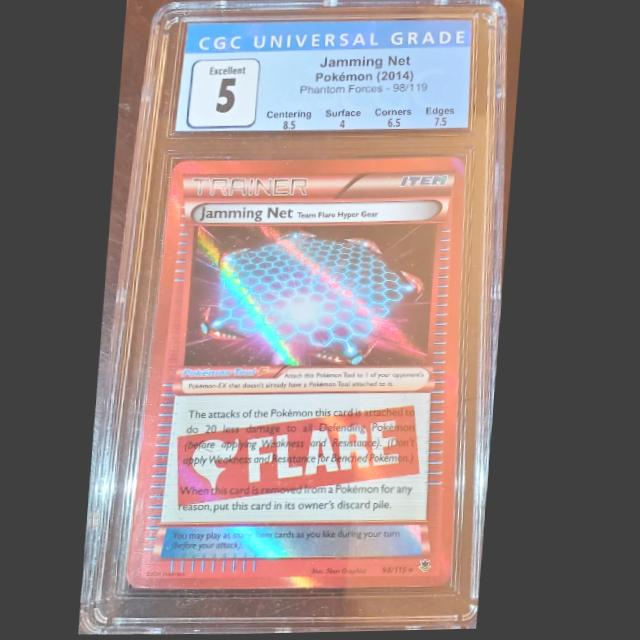card: (128, 157, 470, 591)
cgc_label_old: (174, 20, 473, 132)
cgc_slab: (86, 0, 508, 634)
